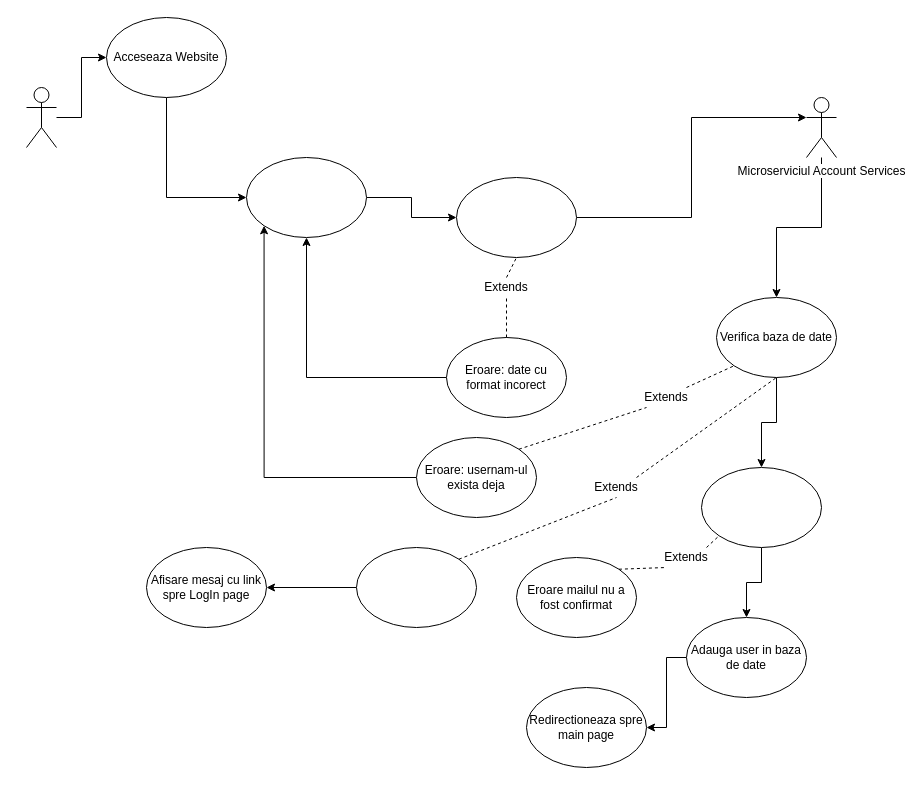
The diagram is 923 pixels wide and 785 high, and some of its shapes have lost their labels. Each missing label, with the centre of its shape:
"completeaza formular" goes at pixel 516 217.
"Eroare: Userul exista deja (adresa de email e deja utilizata)" goes at pixel 416 587.
"Register Page" goes at pixel 306 197.
"Trimite mail confirmare" goes at pixel 761 507.
"User nou" goes at pixel 41 117.
